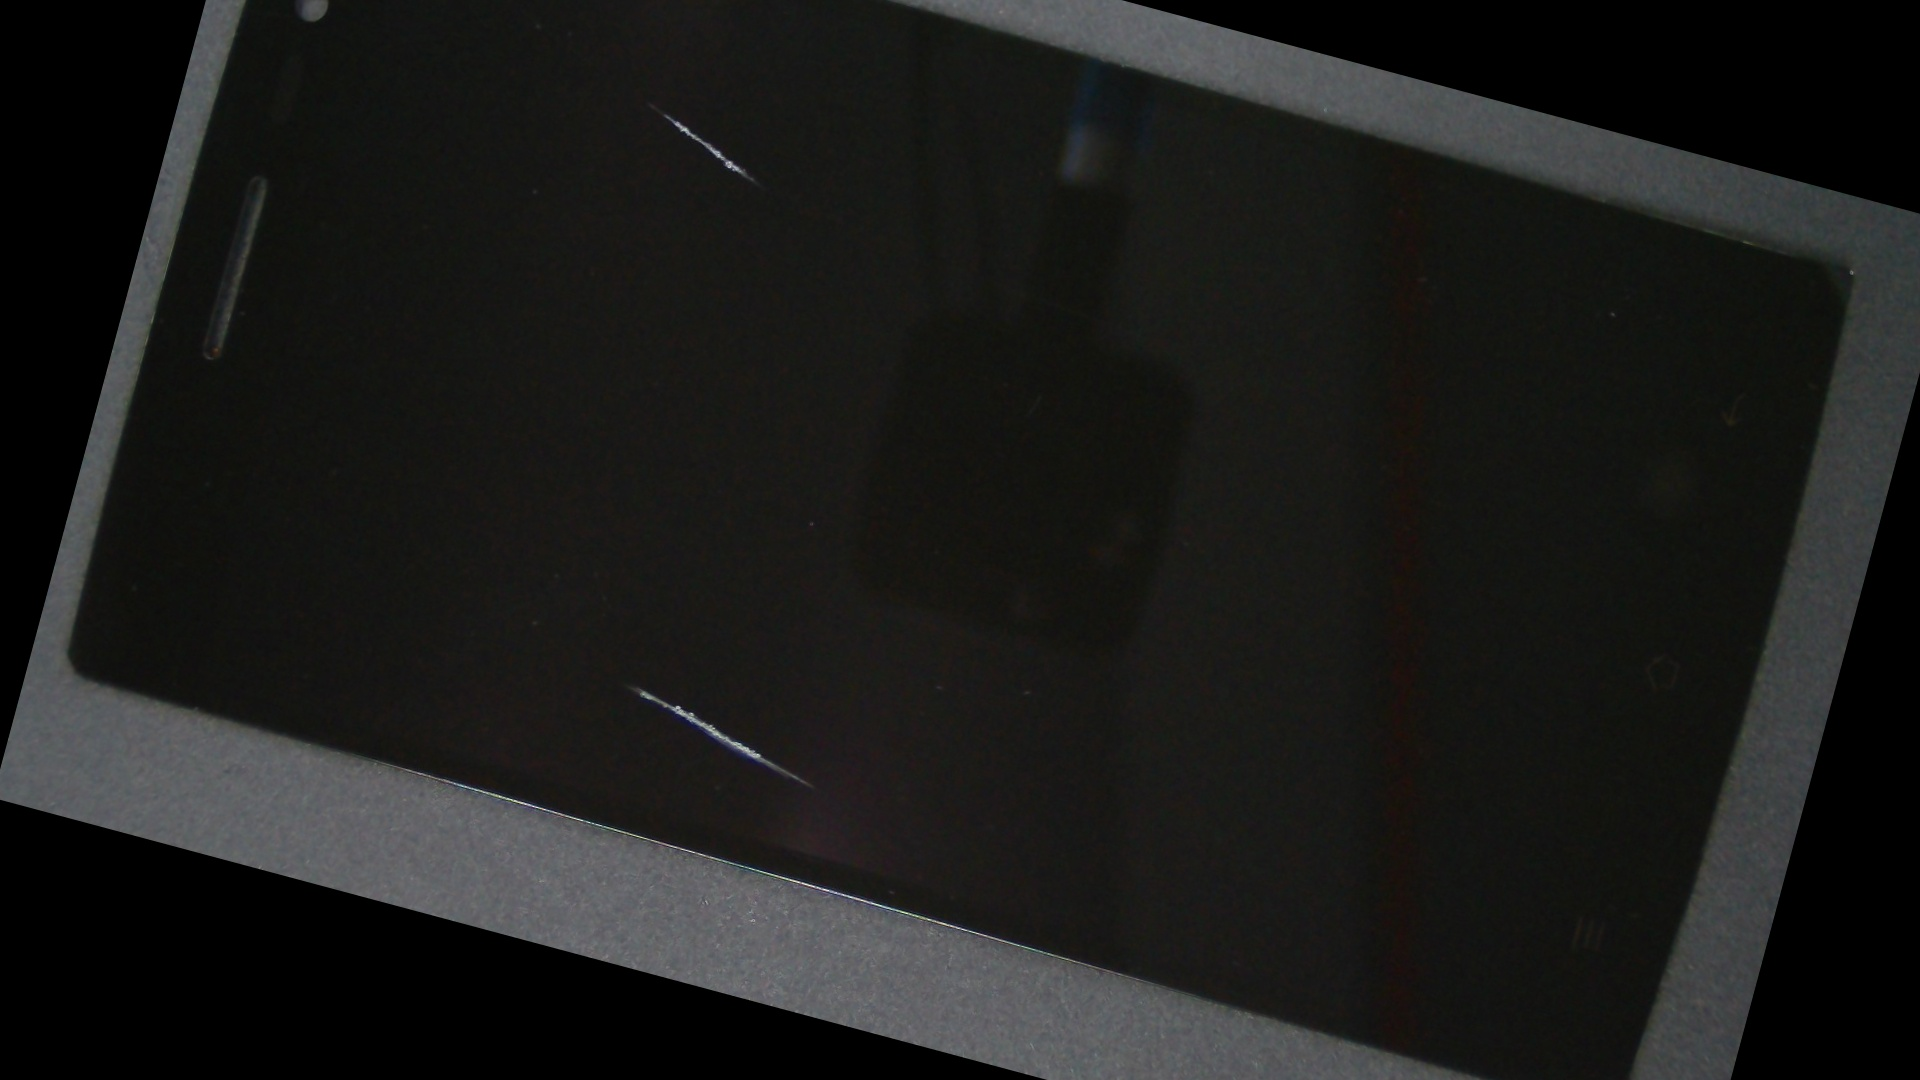oil: (277, 227, 1017, 1026), (401, 0, 903, 276)
